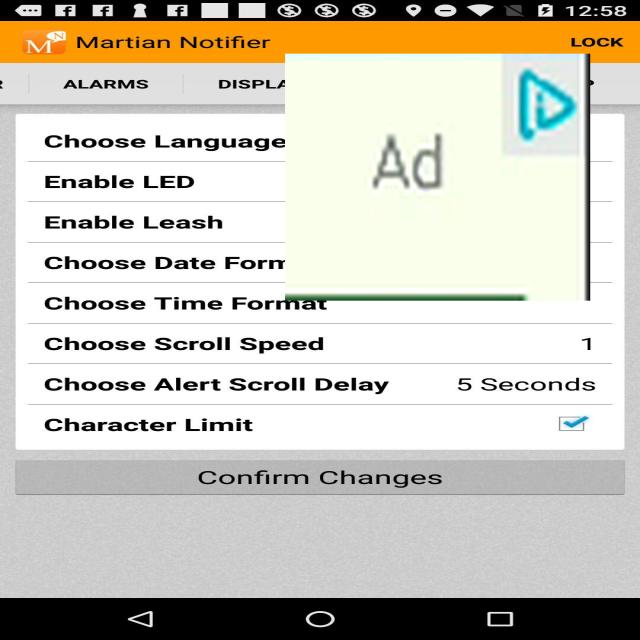sneaking: (285, 54, 590, 300)
